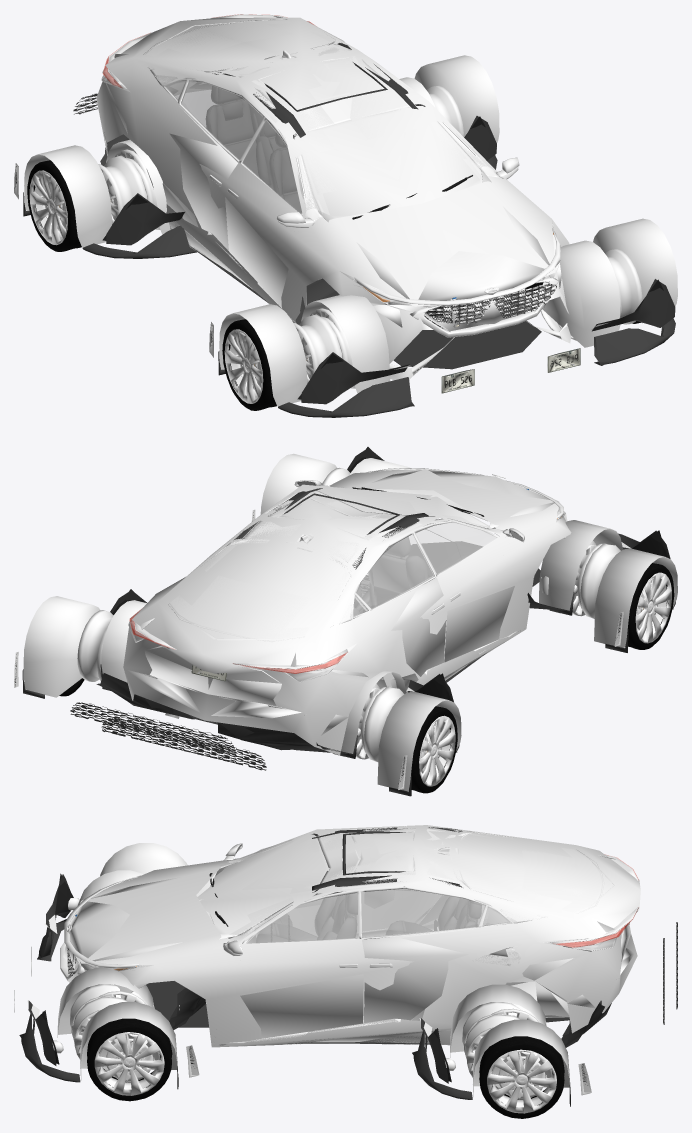
The model's file is sedan.glb.
3 renders of one model, top to bottom at view 1: azimuth 30°, elevation 25°; view 2: azimuth 150°, elevation 25°; view 3: azimuth 270°, elevation 25°, orthographic. The views are drawn at different scales.
Parts seen in each view (by area): view 1: basemesh, wheel_fr, wheel_rr, wheel_fl, car.001, wheel_rl, basemesh.001, car.004, basemesh.008, basemesh.011, low poly top.003, basemesh.010 (+14 smaller); view 2: basemesh, wheel_rr, wheel_fr, wheel_rl, car.001, basemesh.009, wheel_fl, basemesh.010, basemesh.011, basemesh.016, low poly top.001, basemesh.007 (+9 smaller); view 3: basemesh, wheel_rl, wheel_fl, car.001, basemesh.011, basemesh.010, wheel_fr, basemesh.009, basemesh.001, basemesh.008, basemesh.005, car.004 (+18 smaller).
Boxes of the visible parts, x1,y1,x2,y2 form: basemesh: (96,17,571,380); wheel_fr: (209,280,474,417); wheel_rr: (14,93,196,258); wheel_fl: (540,218,677,372); car.001: (161,80,478,213); wheel_rl: (399,55,499,169); basemesh.001: (318,170,549,300); car.004: (189,245,541,369); basemesh.008: (294,106,483,214); basemesh.011: (169,106,237,250); low poly top.003: (206,86,274,185); basemesh.010: (225,197,288,307); basemesh: (123,469,571,755); wheel_rr: (101,670,461,796); wheel_fr: (360,520,677,652); wheel_rl: (14,589,235,754); car.001: (350,521,496,618); basemesh.009: (169,543,347,640); wheel_fl: (251,447,430,580); basemesh.010: (444,586,514,662); basemesh.011: (373,577,446,676); basemesh.016: (144,609,297,705); low poly top.001: (368,537,427,608); basemesh.007: (126,669,347,735); basemesh: (68,825,640,1047); wheel_rl: (412,938,664,1118); wheel_fl: (14,923,271,1101); car.001: (246,845,516,943); basemesh.011: (362,890,478,1022); basemesh.010: (240,892,363,1038); wheel_fr: (31,843,289,976); basemesh.009: (460,833,602,916); basemesh.001: (68,862,237,961); basemesh.008: (223,835,327,935); basemesh.005: (317,827,459,883); car.004: (146,981,569,1043).
Size of the model in its own units: 3.13 by 1.3 by 4.5.
60 materials, 10 textured.
